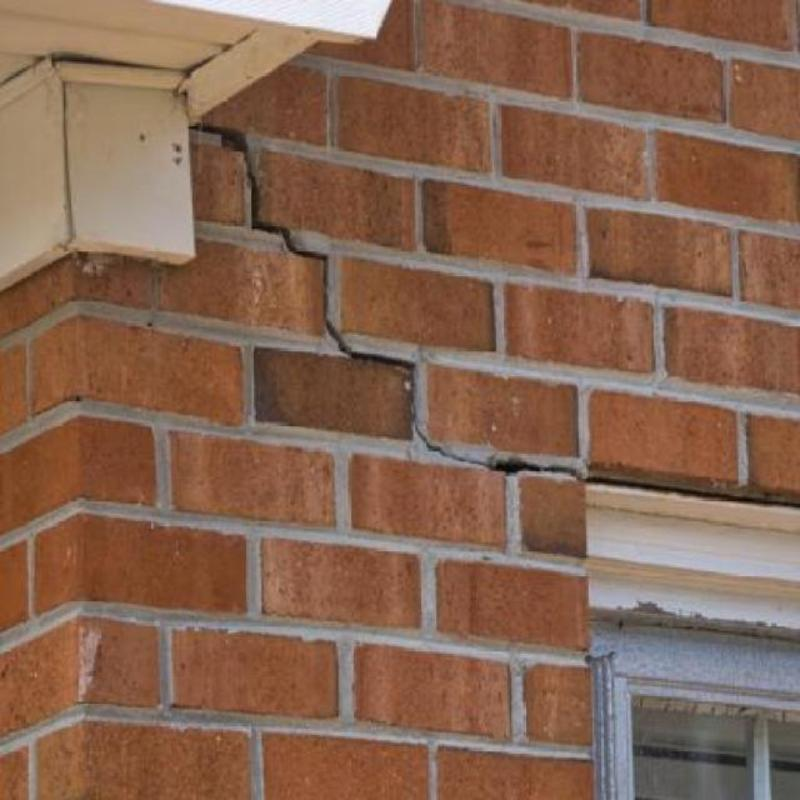crack: (191, 123, 417, 422), (414, 424, 800, 512)
